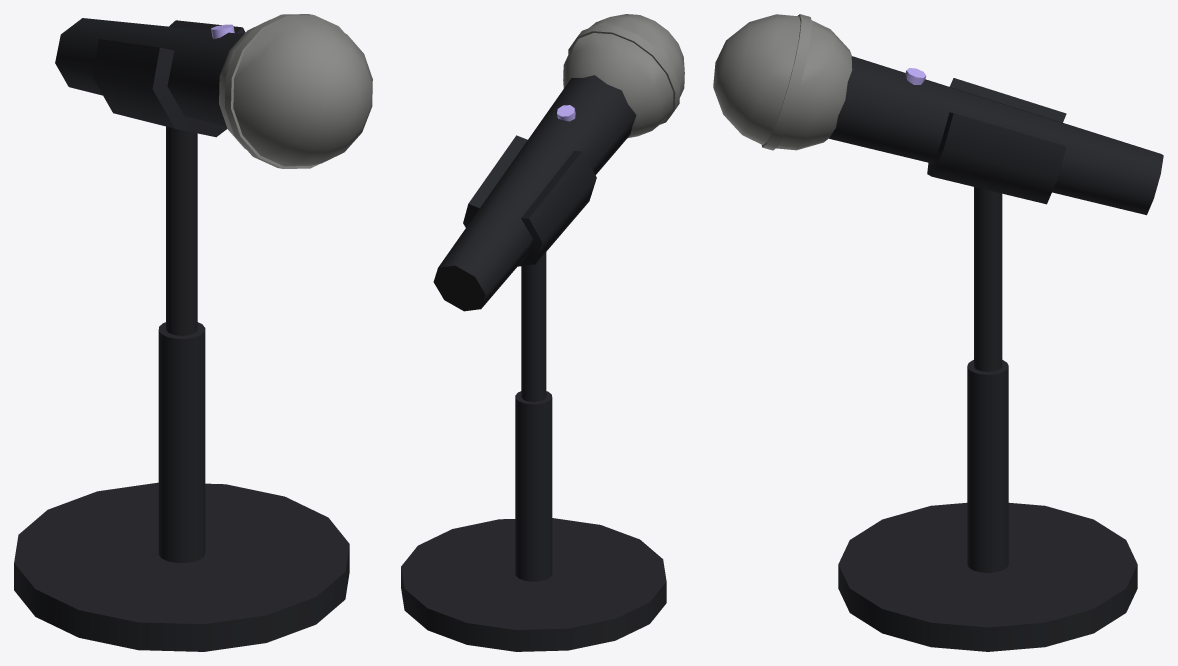
Rendered from Shelves_Assets_Electronic_Mikropon_1.fbx.
The picture shows the model from 3 angles, left to right: view 1: azimuth 30°, elevation 25°; view 2: azimuth 150°, elevation 25°; view 3: azimuth 270°, elevation 25°; orthographic projection. The views are drawn at different scales.
Parts seen in each view (by area): view 1: Shelves_Assets_Electronic_Mikropon_1; view 2: Shelves_Assets_Electronic_Mikropon_1; view 3: Shelves_Assets_Electronic_Mikropon_1.
Part boxes in pixels (left/top/right/bottom): Shelves_Assets_Electronic_Mikropon_1: left=14, top=14, right=372, bottom=651; Shelves_Assets_Electronic_Mikropon_1: left=401, top=14, right=684, bottom=651; Shelves_Assets_Electronic_Mikropon_1: left=713, top=14, right=1163, bottom=651.
Size of the model in its own units: 17.03 by 35.71 by 25.65.
